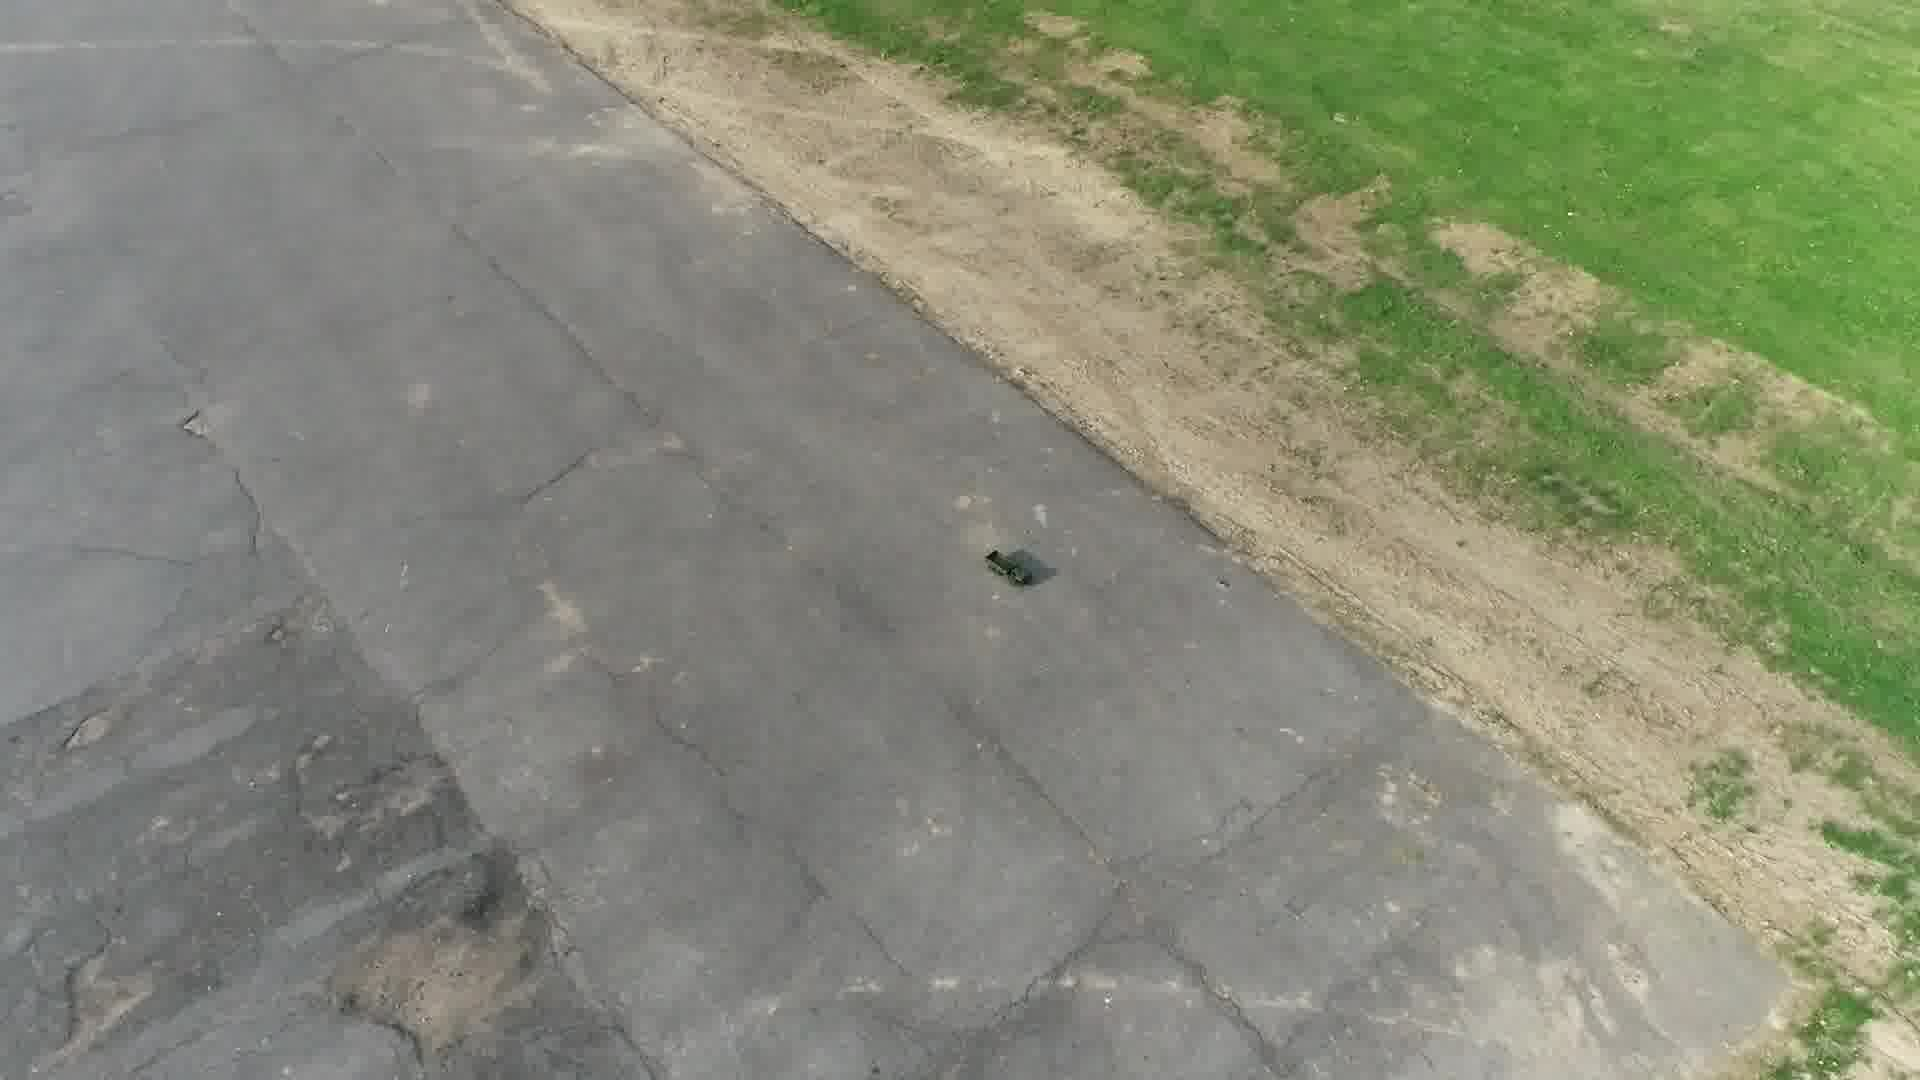transporter9: (978, 547, 1039, 591)
